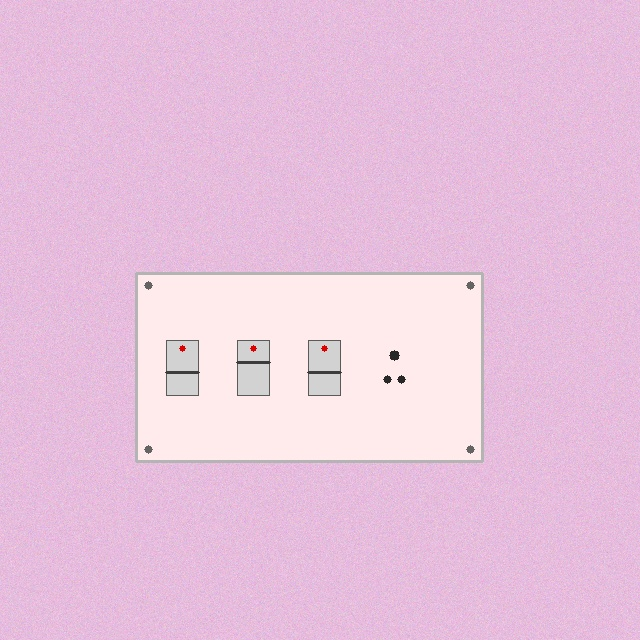switchboard: (136, 273, 482, 461)
